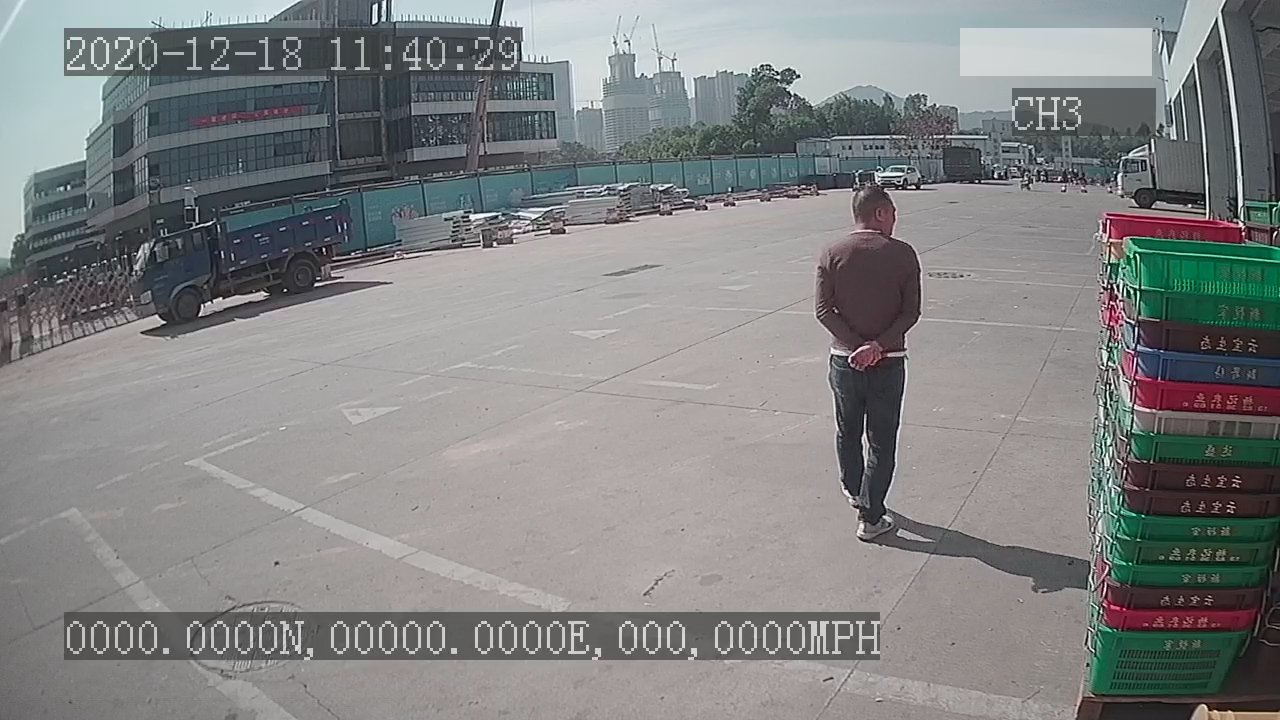person: (813, 183, 920, 540)
